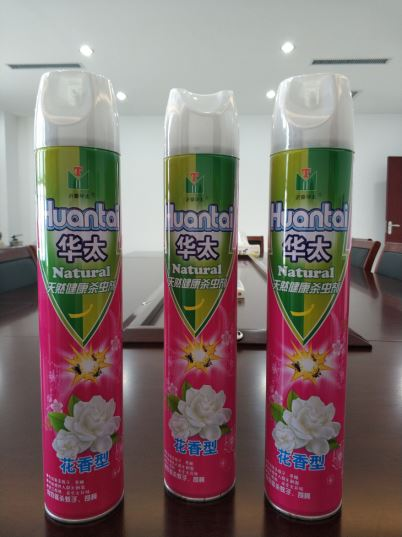Insecticide: (31, 67, 134, 528), (263, 69, 352, 526), (161, 86, 241, 507)
